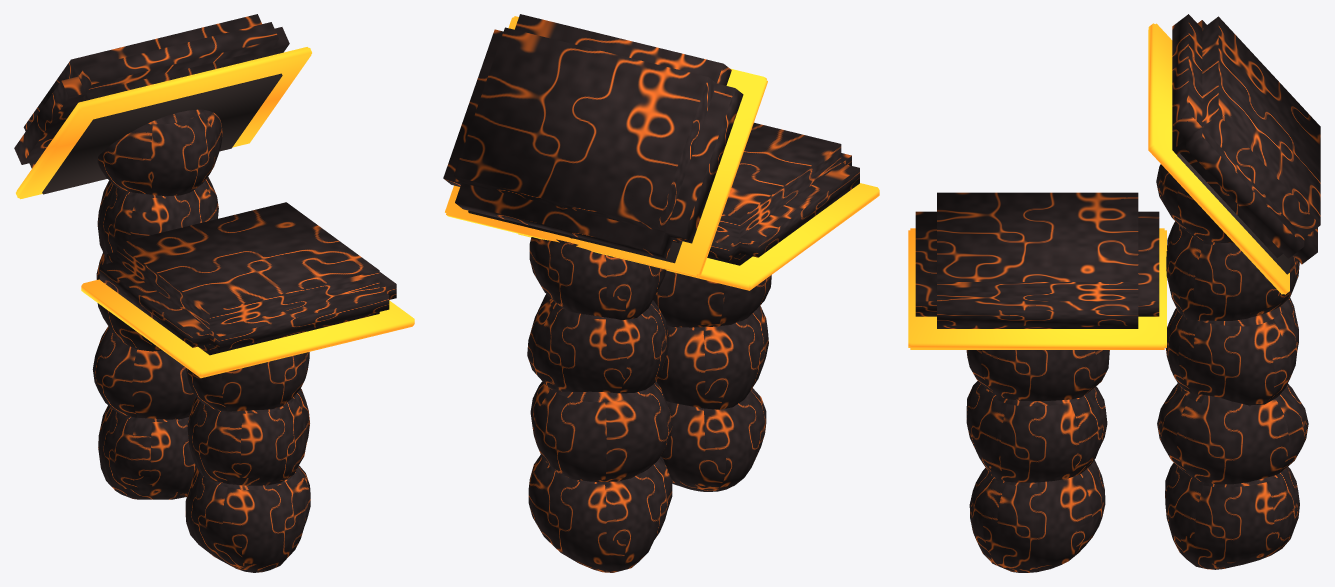
Rendered from LavaBench.glb.
3 renders of one model, left to right at view 1: azimuth 30°, elevation 25°; view 2: azimuth 150°, elevation 25°; view 3: azimuth 270°, elevation 25°, orthographic. The views are drawn at different scales.
Parts seen in each view (by area): view 1: LavaBench, LavaBench_Glow; view 2: LavaBench, LavaBench_Glow; view 3: LavaBench, LavaBench_Glow.
Boxes of the visible parts, bbox=[...] form: LavaBench: bbox=[14, 14, 396, 572]; LavaBench_Glow: bbox=[16, 47, 414, 378]; LavaBench: bbox=[443, 14, 859, 572]; LavaBench_Glow: bbox=[445, 16, 879, 290]; LavaBench: bbox=[915, 14, 1320, 572]; LavaBench_Glow: bbox=[908, 23, 1289, 349].
Bounding box in the file's own units: 1.37 × 2.63 × 1.95.
Materials: 2 (1 with a texture image).
